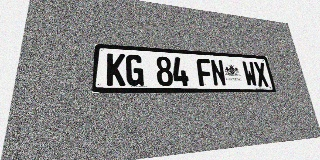4: (171, 57, 189, 86)
8: (156, 56, 173, 86)
F: (196, 58, 213, 86)
G: (126, 54, 144, 86)
K: (106, 53, 125, 86)
N: (210, 59, 227, 86)
W: (242, 61, 258, 87)
X: (253, 62, 269, 87)
